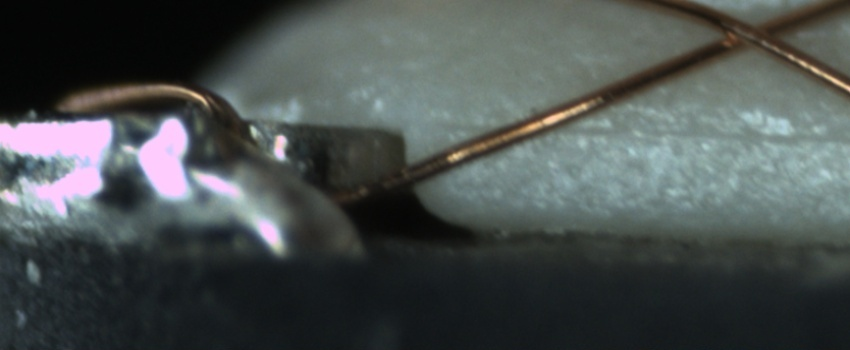CL: (696, 4, 813, 61)
DL: (432, 101, 850, 159)
TE: (52, 74, 253, 135)
